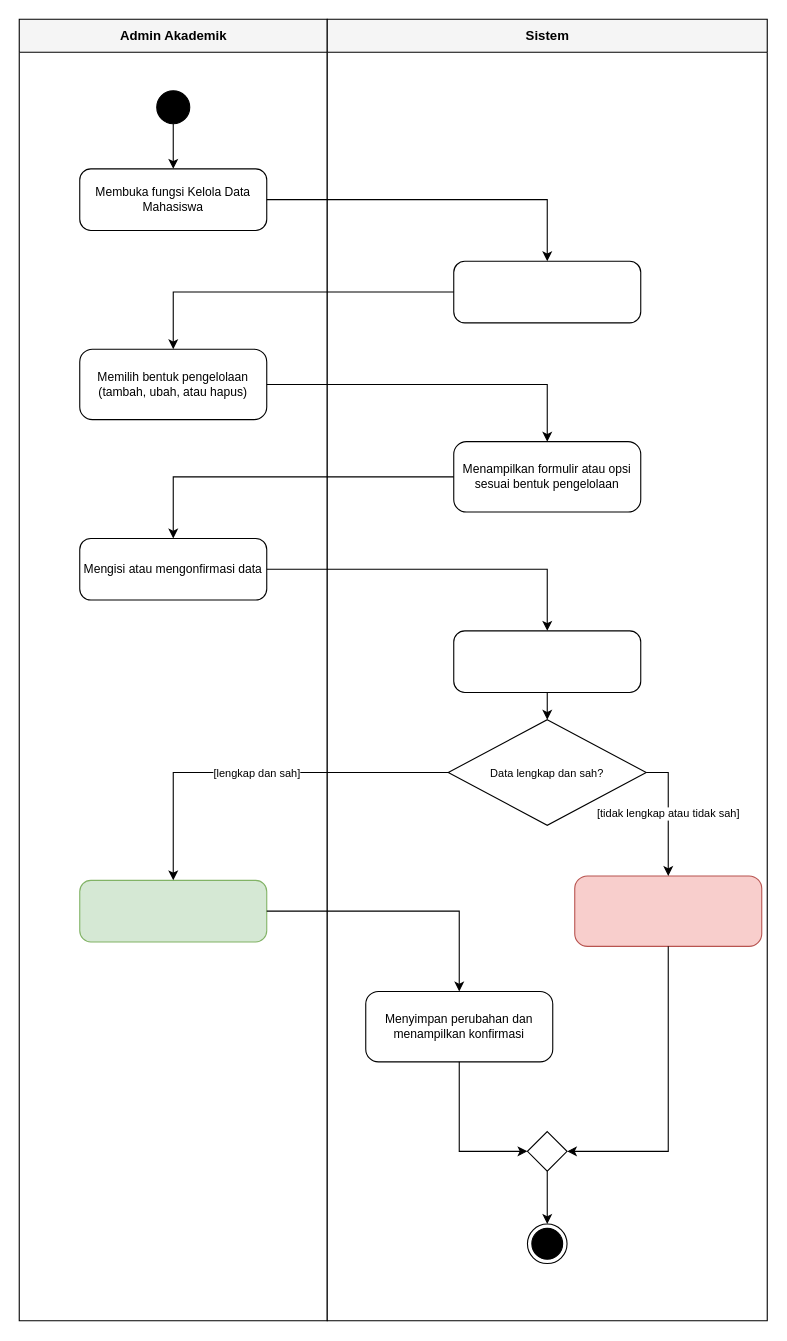
Image size: 787x1341. Some labels were removed from this diagram. Here are the shapes that lost their labels. From the top down, the centre of each, then its label:
At (x=547, y=291): "Menampilkan daftar data mahasiswa".
At (x=547, y=661): "Memeriksa kelengkapan dan keabsahan data".
At (x=173, y=910): "Menyimpan perubahan".
At (x=668, y=910): "Menolak penyimpanan dan menampilkan pesan kesalahan data".
